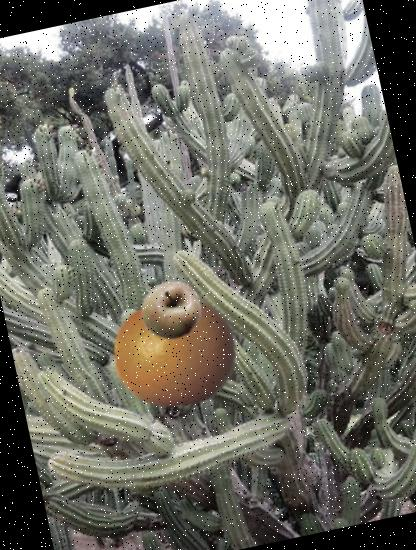Apple: (135, 275, 207, 347)
Grapefruit: (100, 278, 249, 427)
